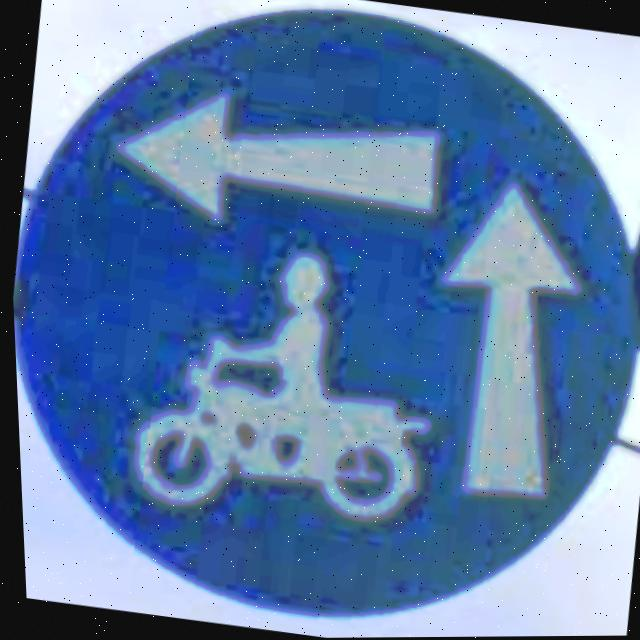twostageturn: (11, 8, 633, 623)
